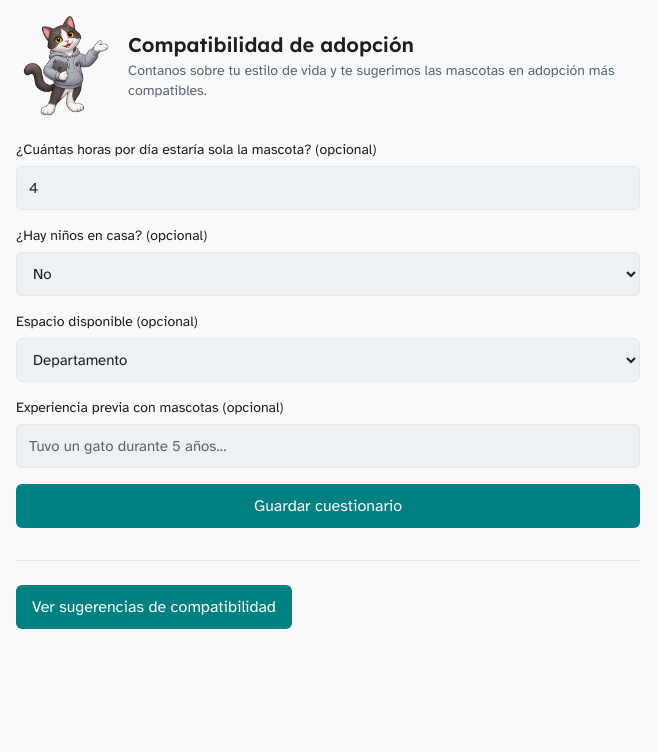
it: PaginaCompatibilidadAdopcion (app/adopciones/compatibilidad) › con cuestionario existente: genera sugerencias y las cruza con los datos de la ficha
Expected: the number field showing "4" is shown, [16,166,640,210]
Click the button "Ver sugerencias de compatibilidad" at (154, 607), box [16,585,292,629]
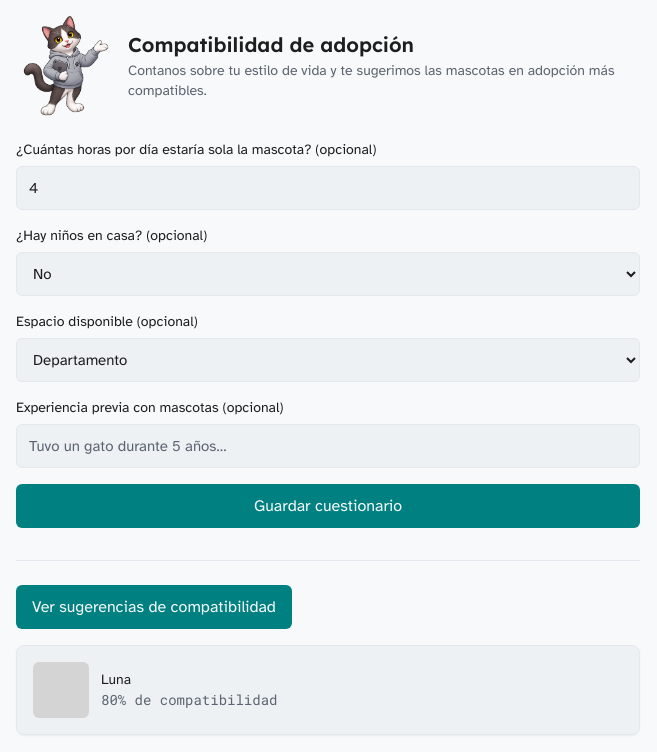
Expected: the text "Luna" is shown, [101,671,131,688]
Expected: the text "80% de compatibilidad" is shown, [101,690,278,710]
